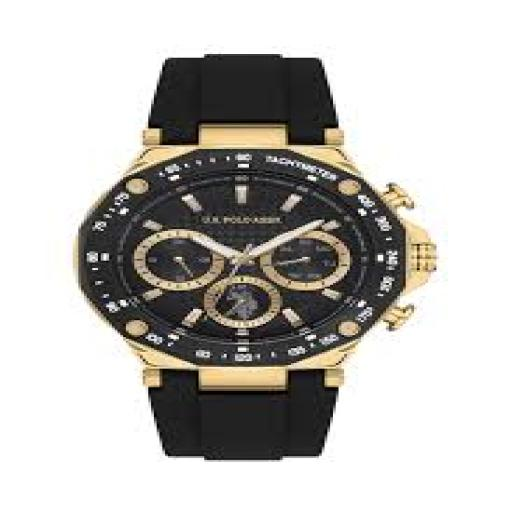KolSaati: (50, 38, 458, 466)
